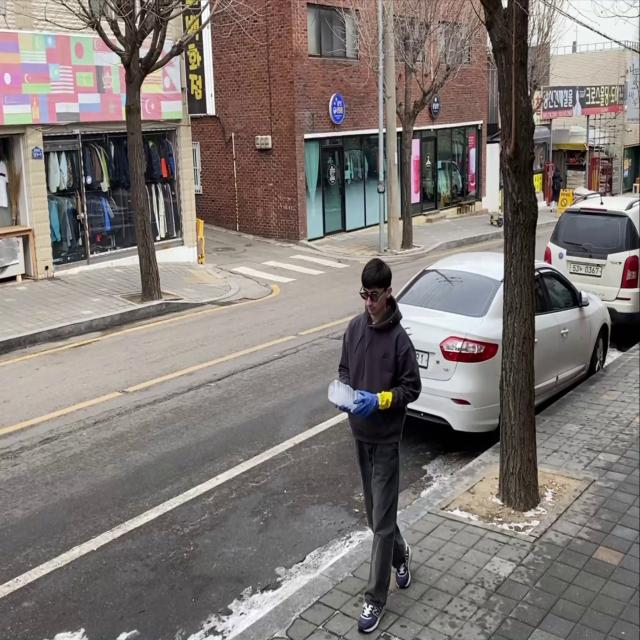gloved_hand: (352, 386, 381, 420)
